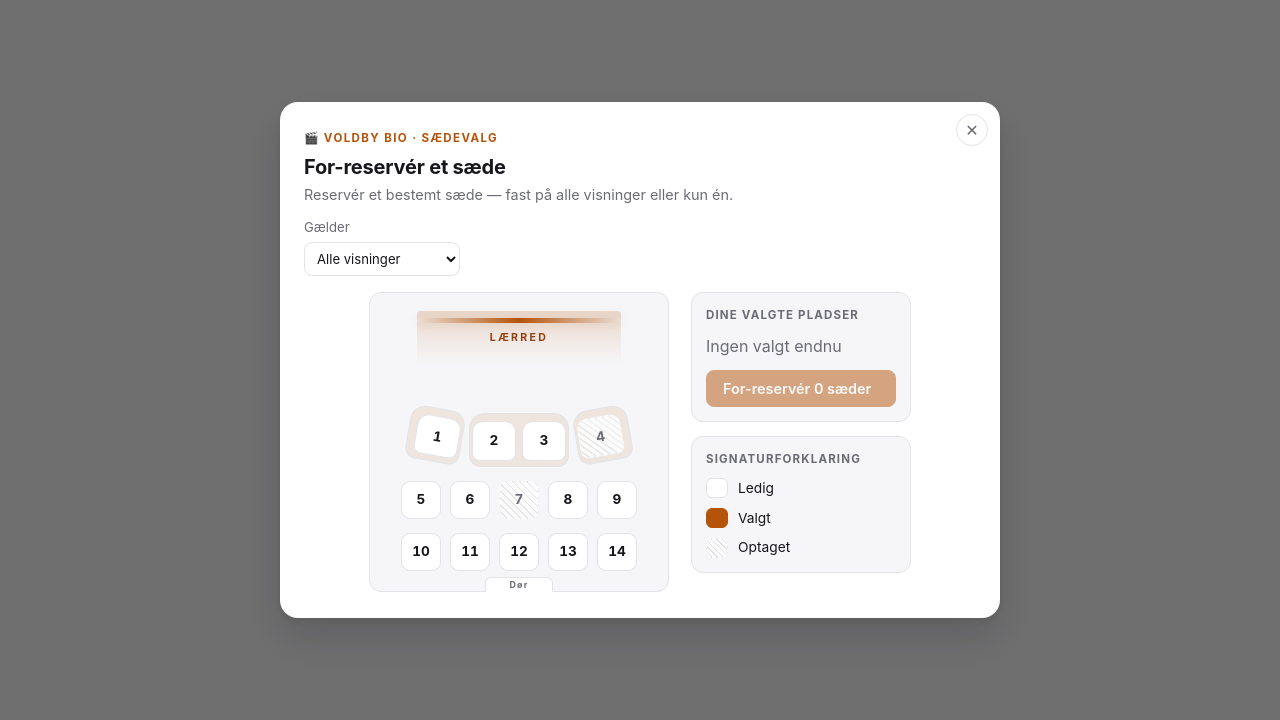
Test: HoldSeatModal (feature #231) › for-reserverer flere valgte sæder med det valgte omfang
Select "Én bestemt visning" in the dropdown labelled "Gælder": (382, 259) x1=304 y1=242 x2=460 y2=276
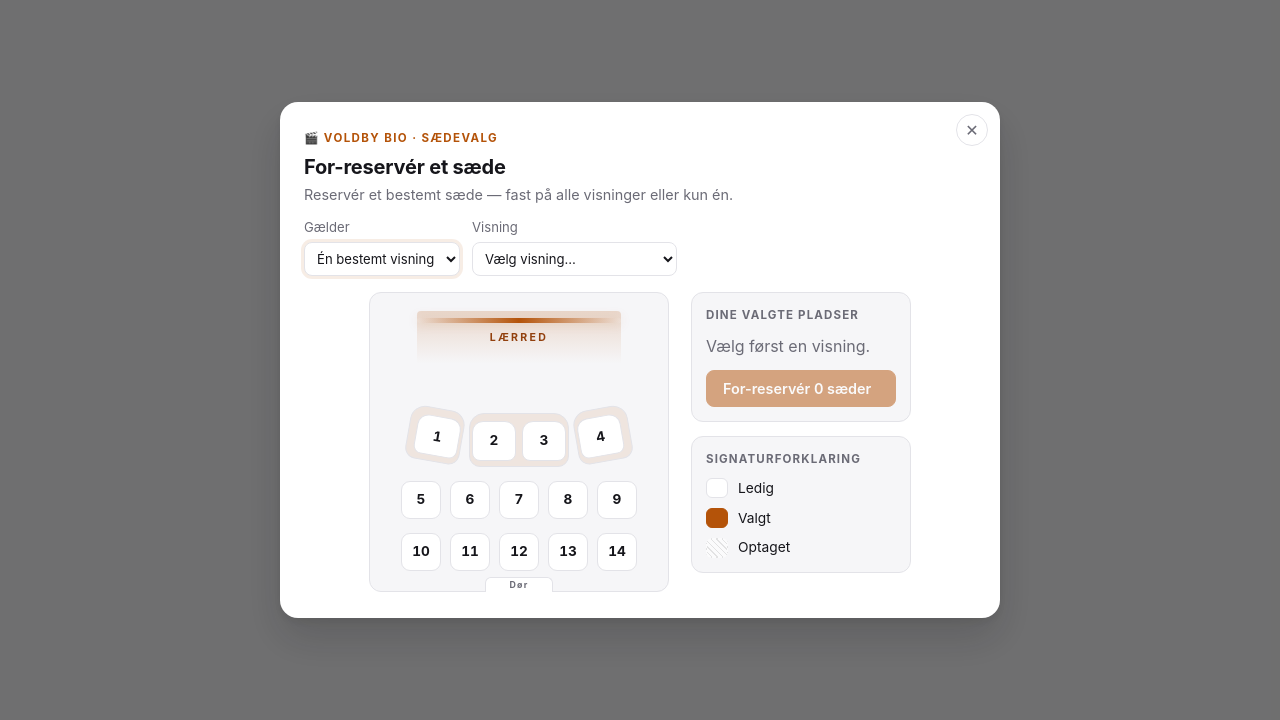
Select "s2" in the dropdown labelled "Visning": (574, 259) x1=472 y1=242 x2=677 y2=276
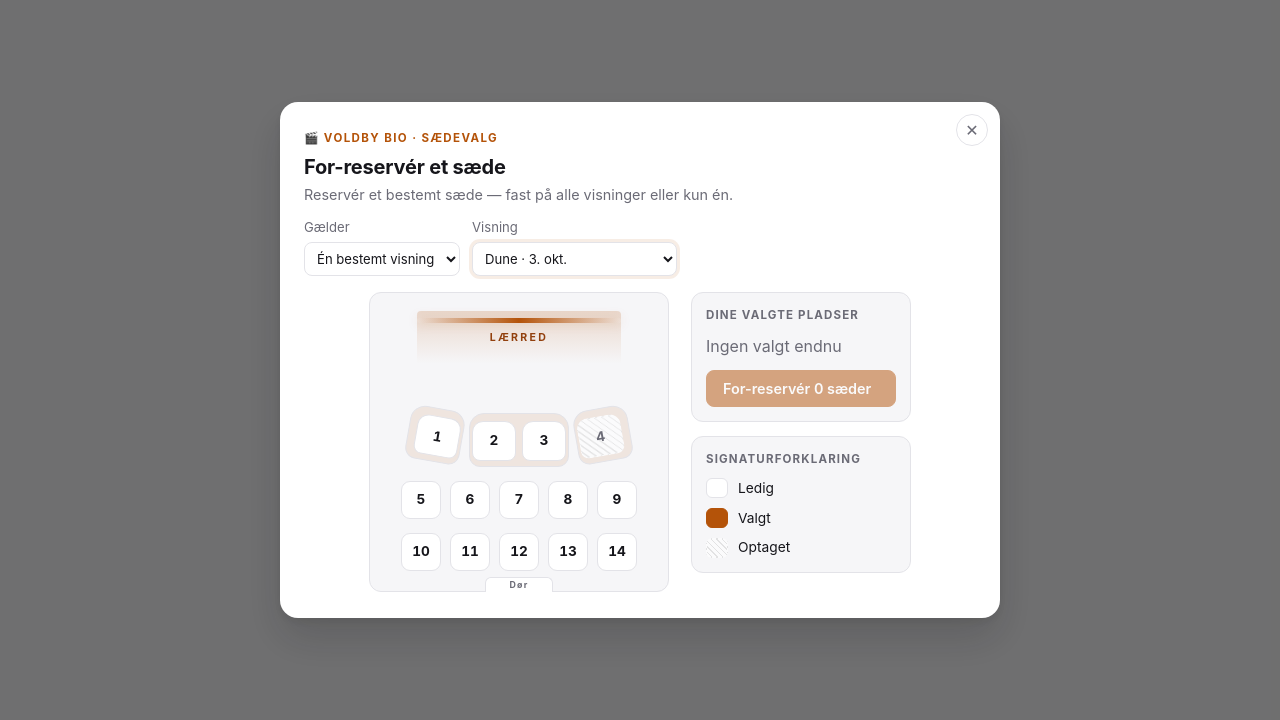
Click the button "2": (494, 441) x1=472 y1=421 x2=516 y2=461
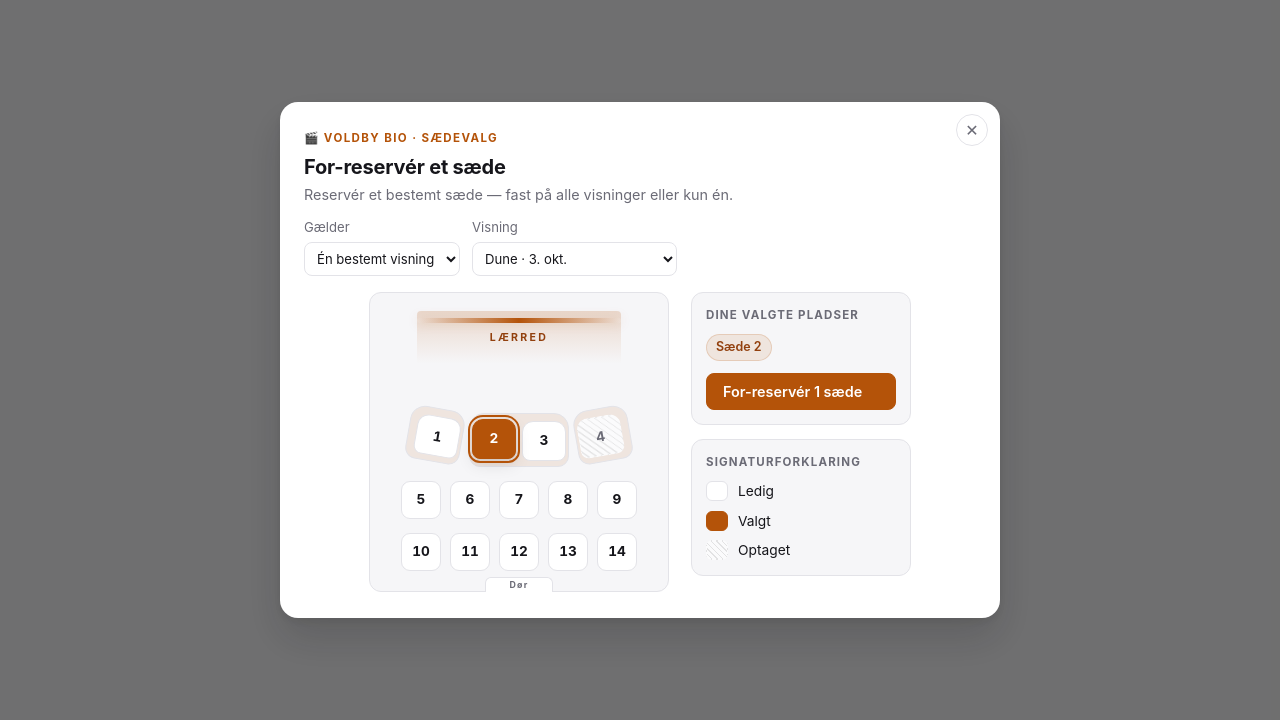
Click the button "1": (438, 436) x1=412 y1=412 x2=463 y2=459
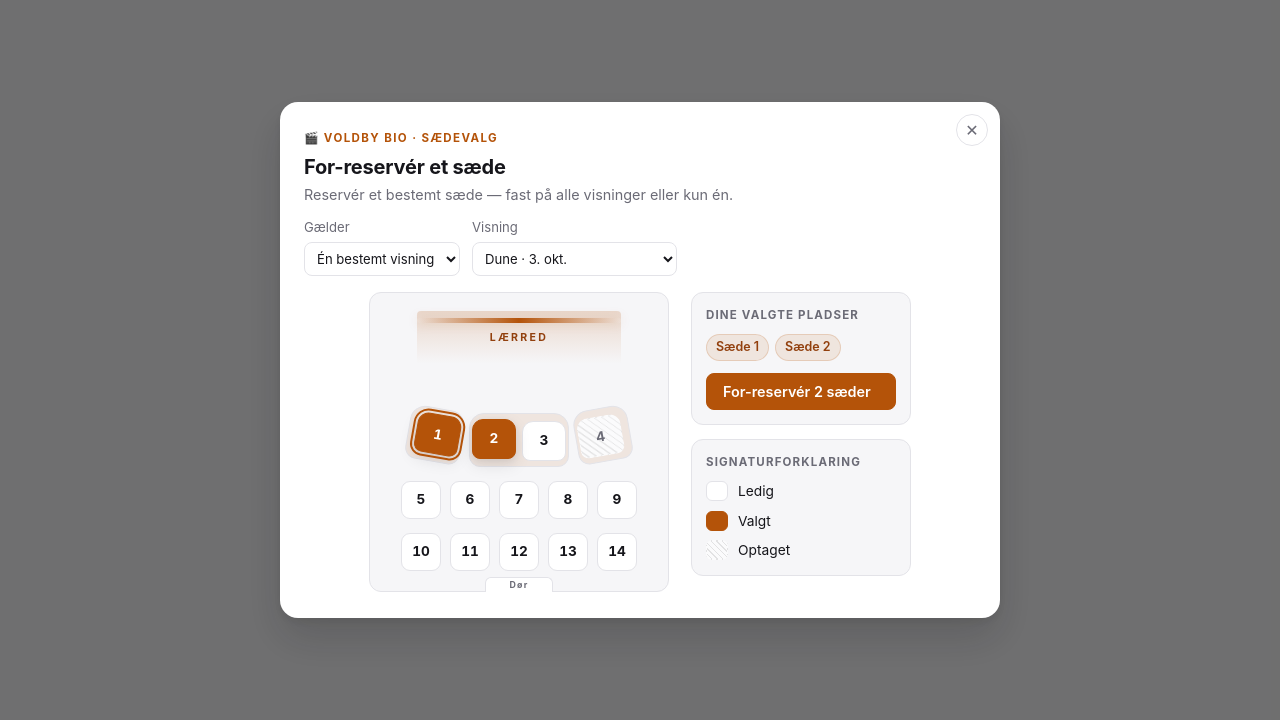
Click the button "For-reservér 2 sæder": (801, 391) x1=706 y1=373 x2=896 y2=410
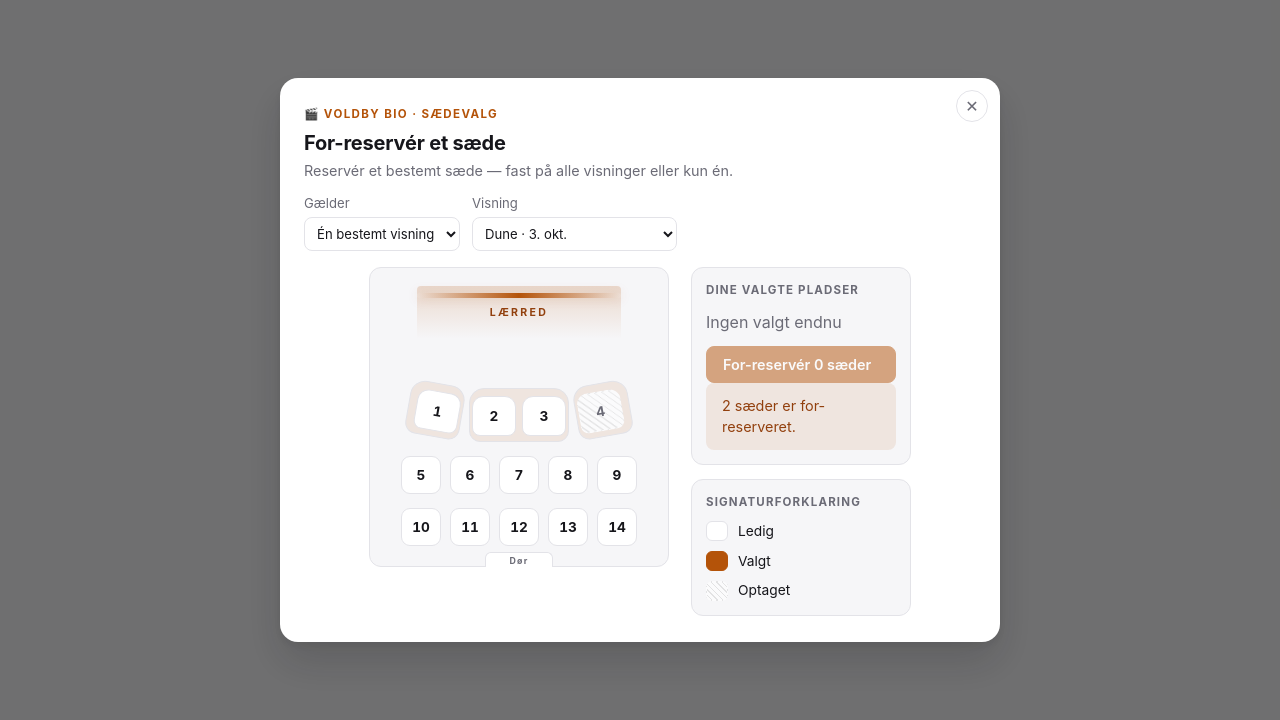
Check: the text "2 sæder er for-reserveret." is shown, box x1=706 y1=383 x2=896 y2=450
